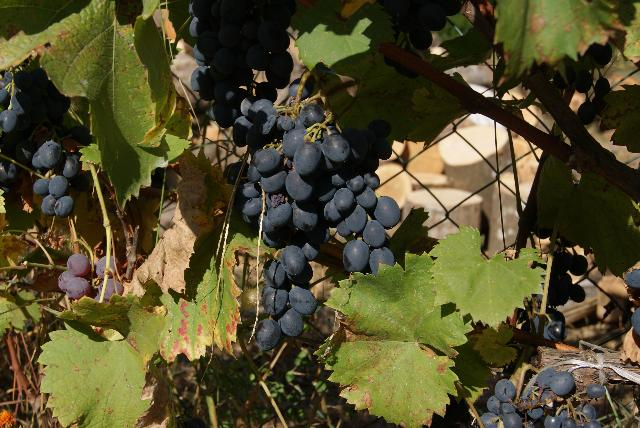grapes: (241, 100, 400, 350), (189, 0, 296, 126)
